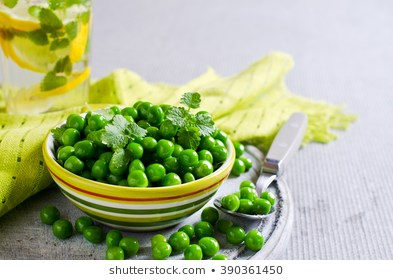boiled peas: (81, 115, 206, 176)
